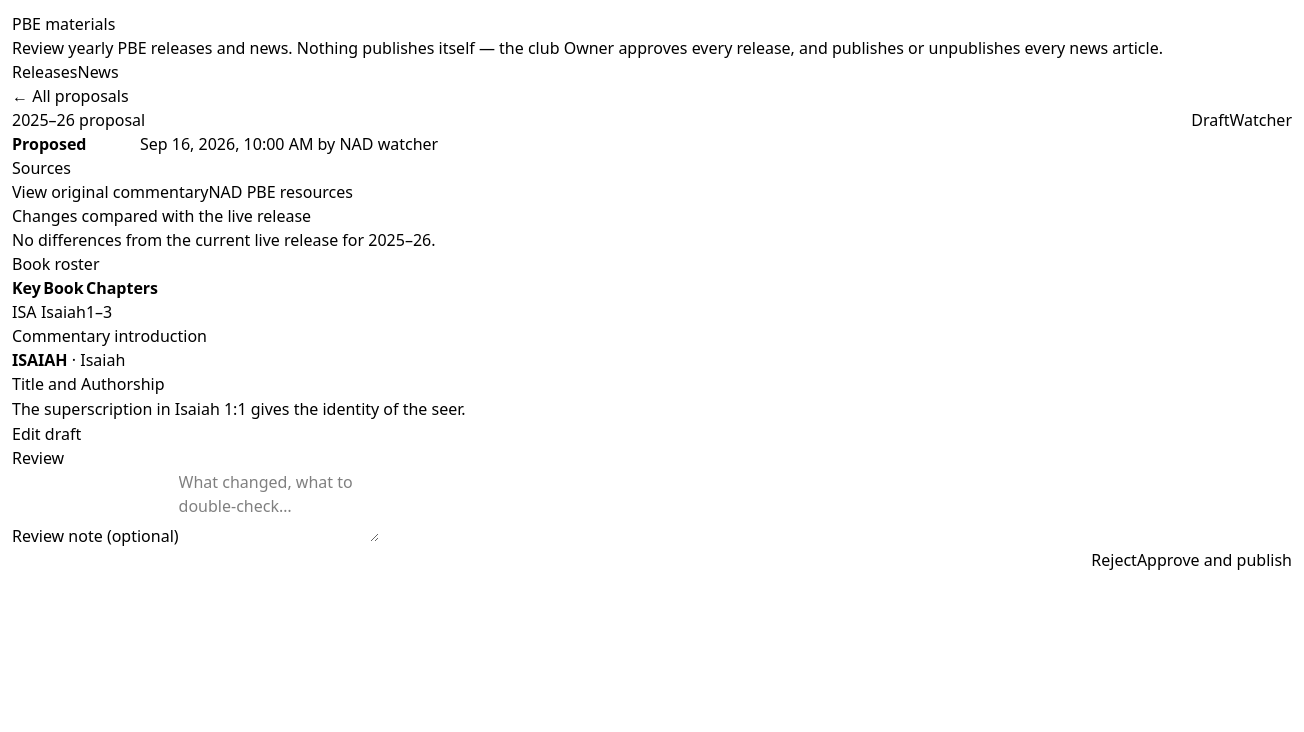
Test: lets the Owner approve with a review note and shows the student link
In the text box labelled "Review note (optional)": (279, 506) [179,470,379,542], type "Looks good."
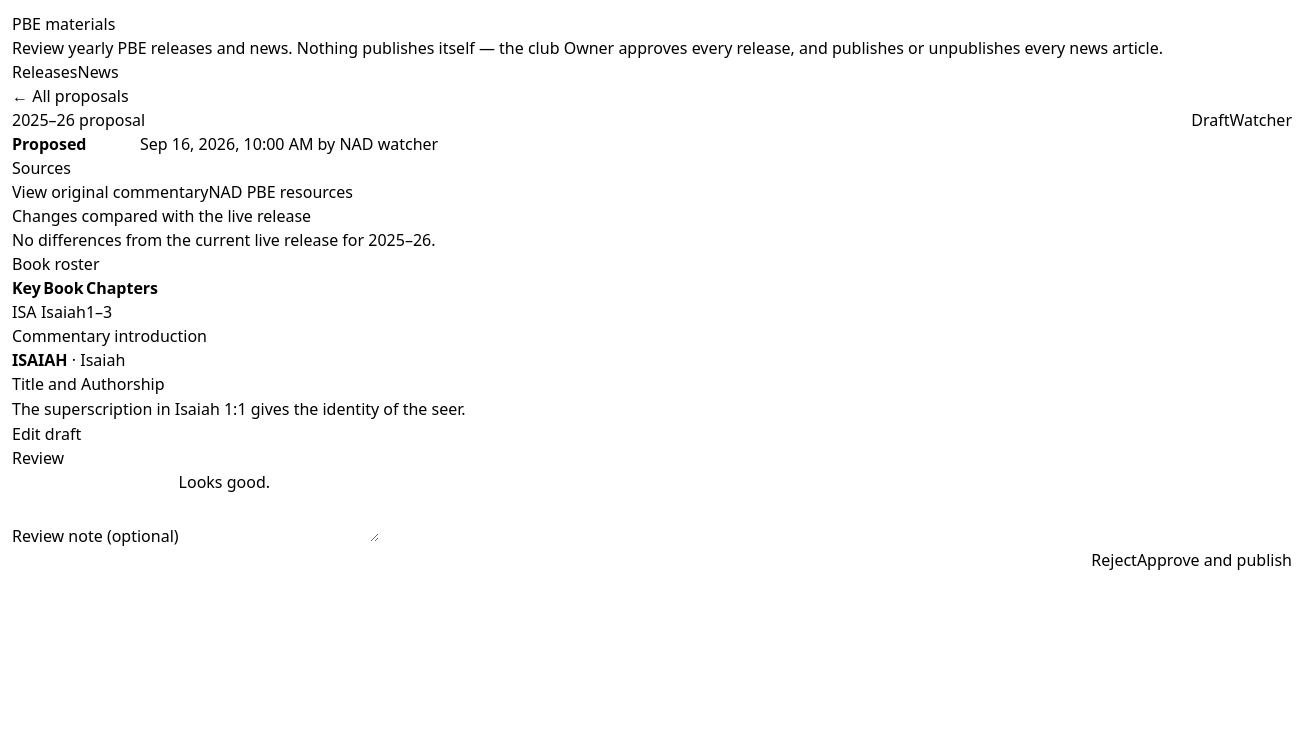
Click the button "Approve and publish": (1214, 560) [1137,548,1292,572]
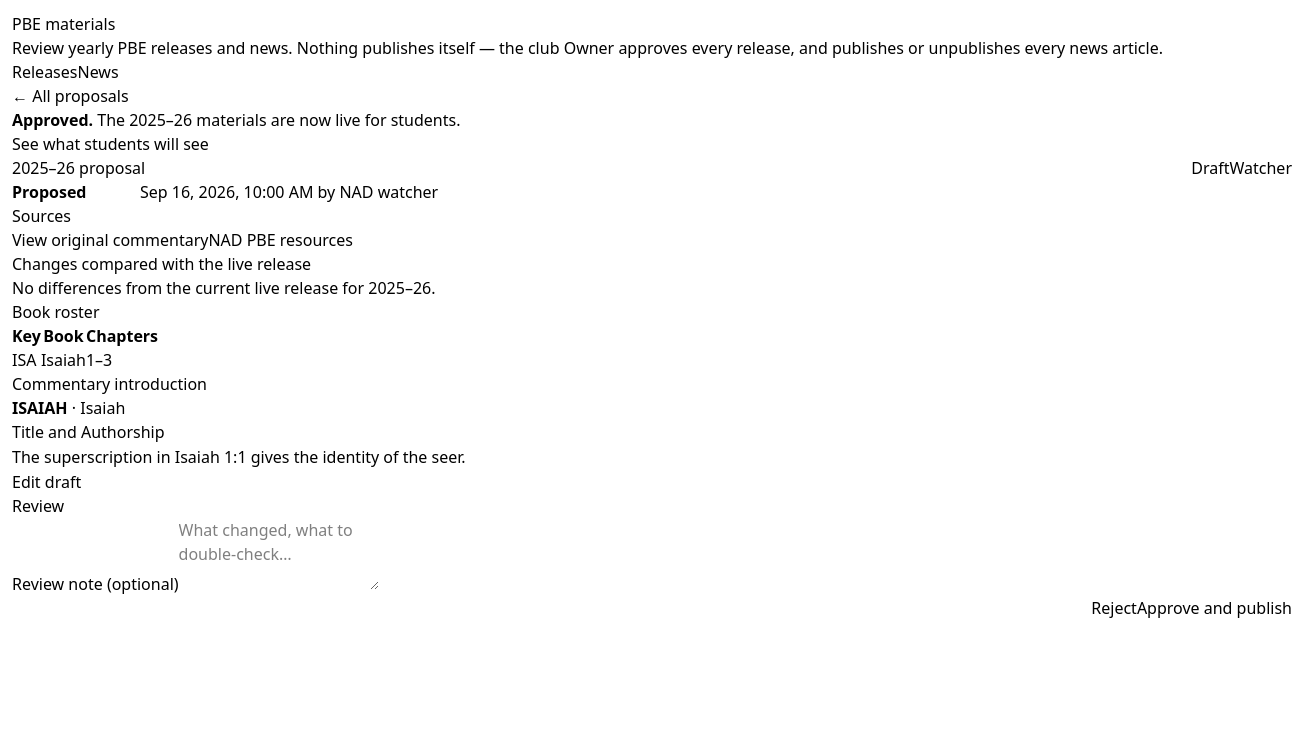
Expected: the text "Approved. The 2025–26 materials are now live for students." is shown, [12,109,460,131]
